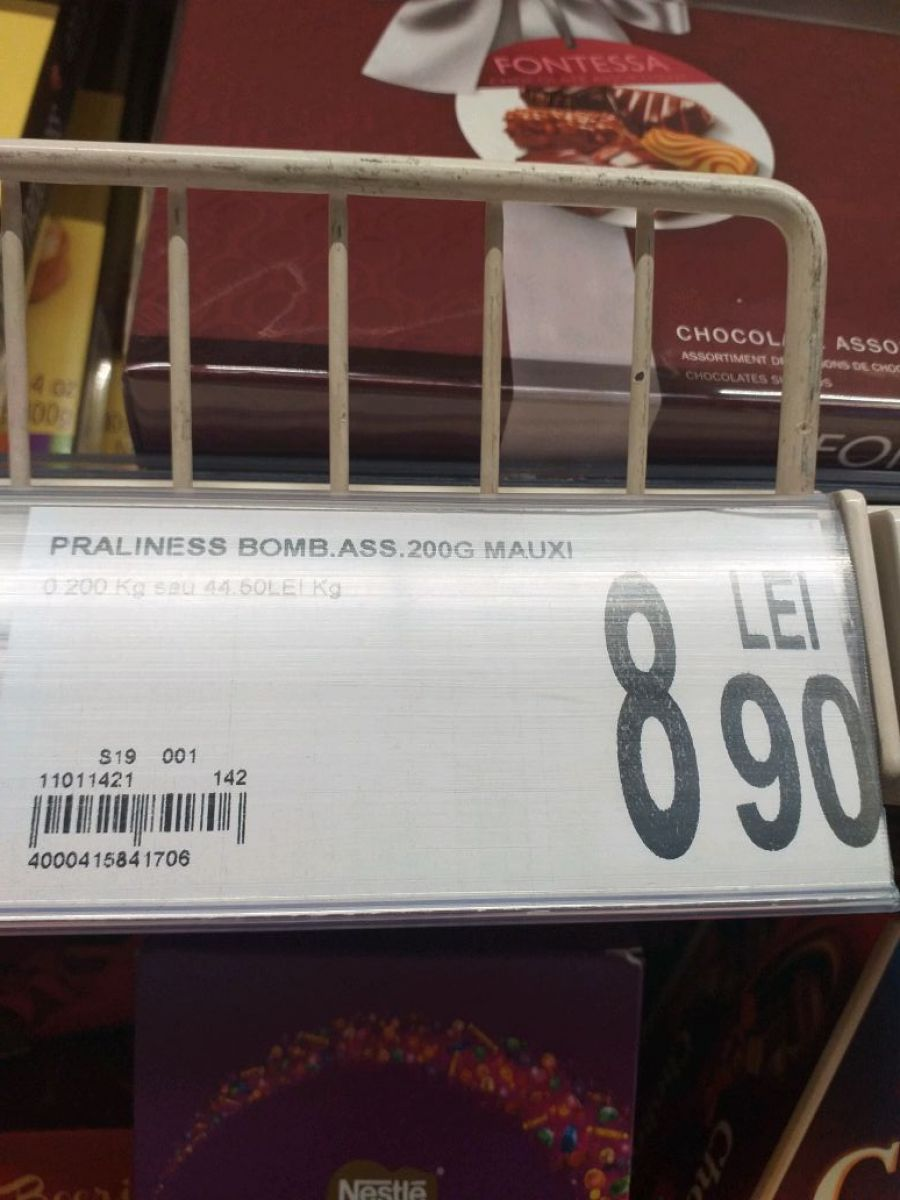bardcode: (25, 849, 193, 871)
list: (1, 504, 900, 914)
name: (47, 533, 577, 568)
price: (599, 566, 886, 863)
